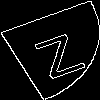Z: (25, 25, 88, 79)
